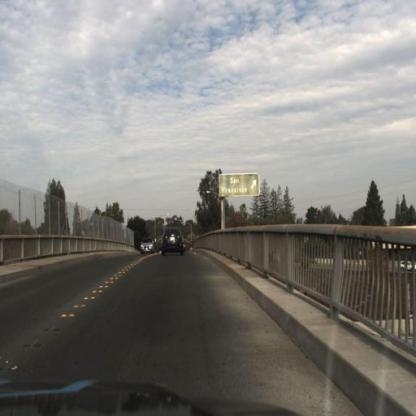car: (162, 226, 187, 259), (139, 238, 156, 258)
